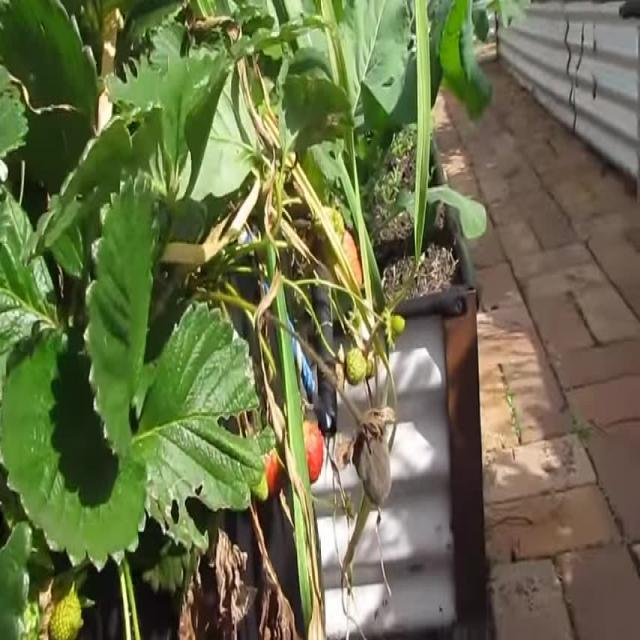Fruta sana: (290, 416, 326, 486), (250, 437, 282, 503), (45, 590, 84, 640), (344, 344, 368, 388)
Moho gris: (347, 414, 396, 510)
